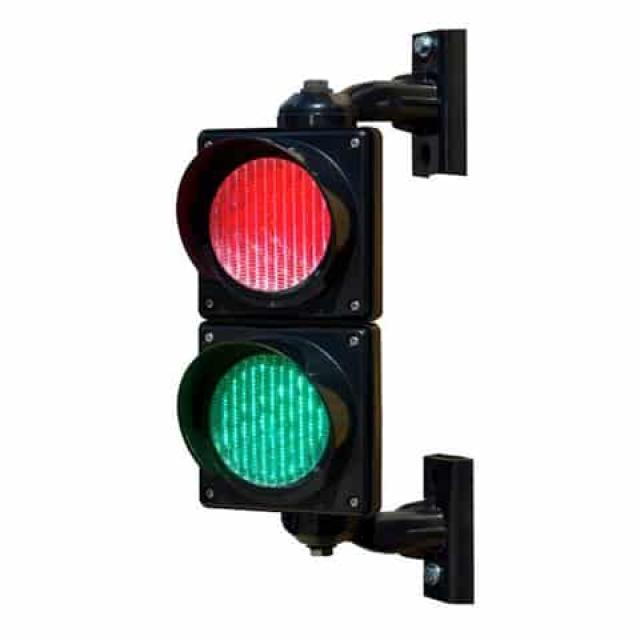green: (203, 340, 349, 506)
red: (190, 135, 338, 296)
